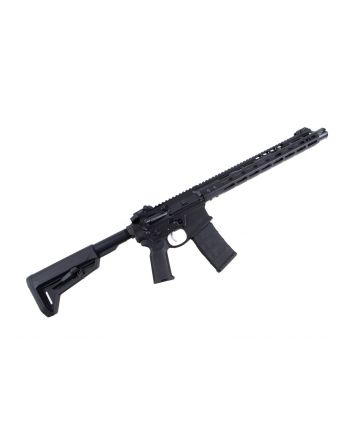Gun: (66, 128, 314, 300)
